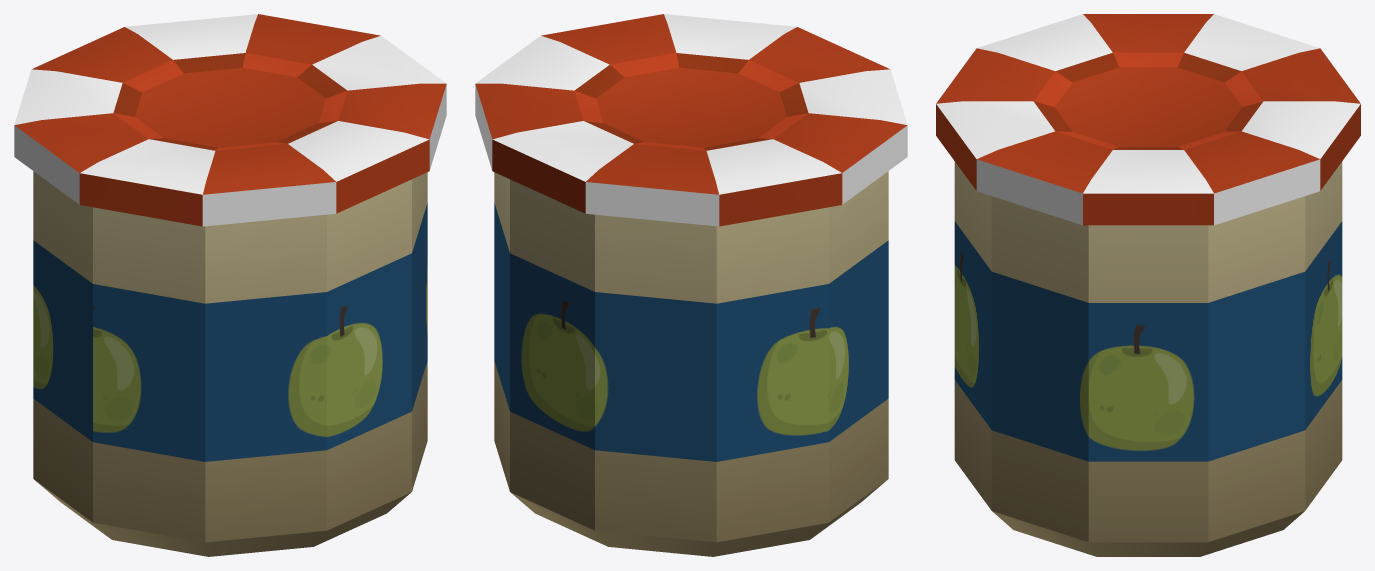
Rendered from 3D_Chopper_Items_Smashed-Compote.fbx.
The picture shows the model from 3 angles, left to right: view 1: azimuth 30°, elevation 25°; view 2: azimuth 150°, elevation 25°; view 3: azimuth 270°, elevation 25°; orthographic projection.
Parts seen in each view (by area): view 1: 3D_Chopper_Items_Smashed-Compote; view 2: 3D_Chopper_Items_Smashed-Compote; view 3: 3D_Chopper_Items_Smashed-Compote.
Part boxes in pixels (left/top/right/bottom): 3D_Chopper_Items_Smashed-Compote: left=14, top=14, right=446, bottom=556; 3D_Chopper_Items_Smashed-Compote: left=475, top=14, right=907, bottom=556; 3D_Chopper_Items_Smashed-Compote: left=936, top=14, right=1360, bottom=556.
Size of the model in its own units: 40 by 40 by 40.
